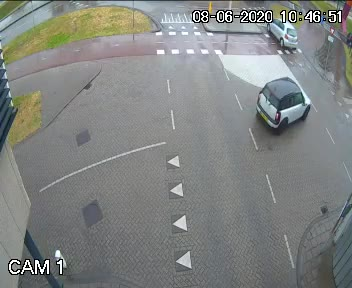car: (244, 73, 314, 151), (256, 14, 301, 58)
